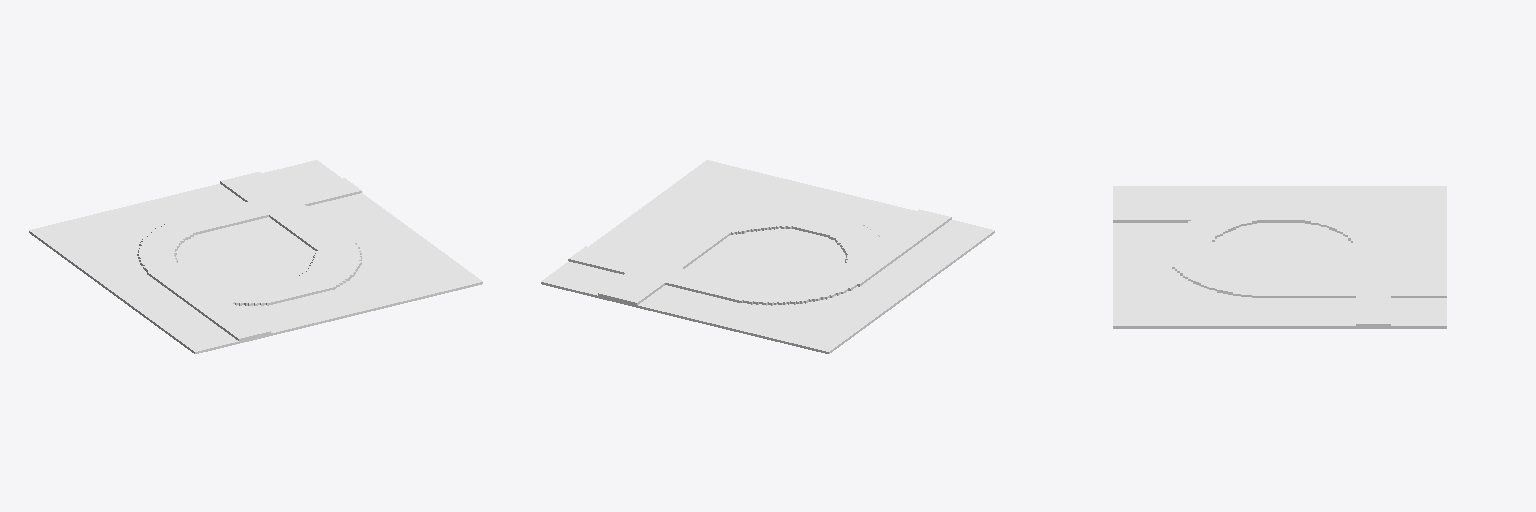
The model's file is map4.obj.
The picture shows the model from 3 angles: view 1: azimuth 30°, elevation 25°; view 2: azimuth 150°, elevation 25°; view 3: azimuth 270°, elevation 25°; orthographic projection.
Bounding box in the file's own units: 125 × 2 × 125.